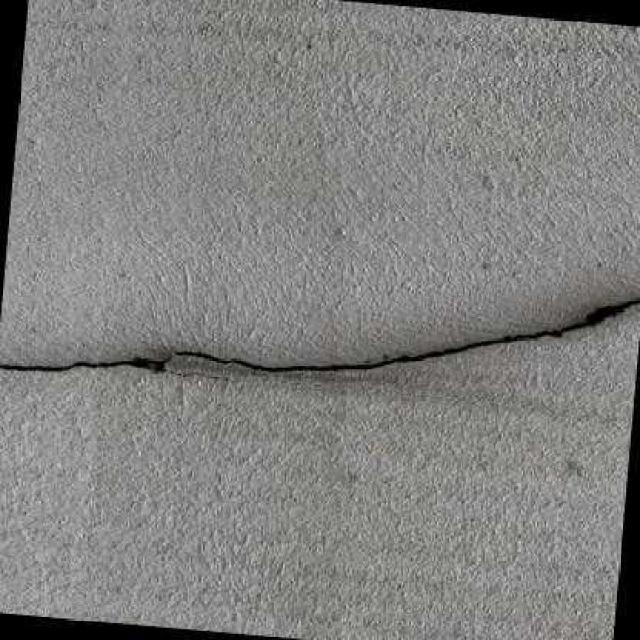D00: (0, 297, 640, 375)
